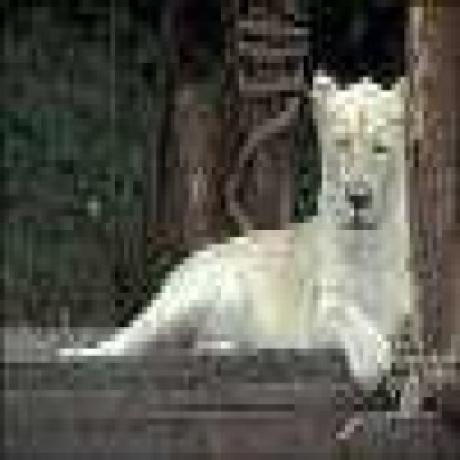Lion: (60, 68, 419, 384)
